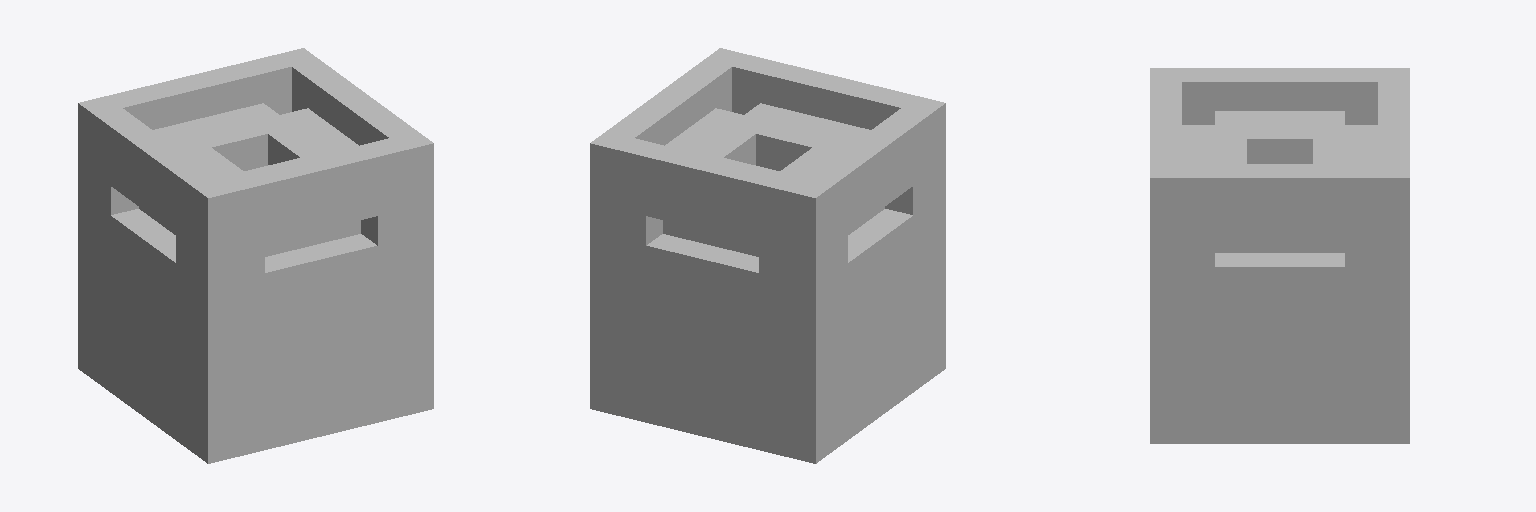
File: EnderGenerator.obj
3 renders of one model, left to right at view 1: azimuth 30°, elevation 25°; view 2: azimuth 150°, elevation 25°; view 3: azimuth 270°, elevation 25°, orthographic.
Visible parts, largest first — view 1: pCube1; view 2: pCube1; view 3: pCube1.
Boxes of the visible parts, x1,y1,x2,y2 form: pCube1: [78, 48, 433, 463]; pCube1: [590, 48, 945, 463]; pCube1: [1150, 68, 1409, 443].
Bounding box in the file's own units: 1 × 1.12 × 1.